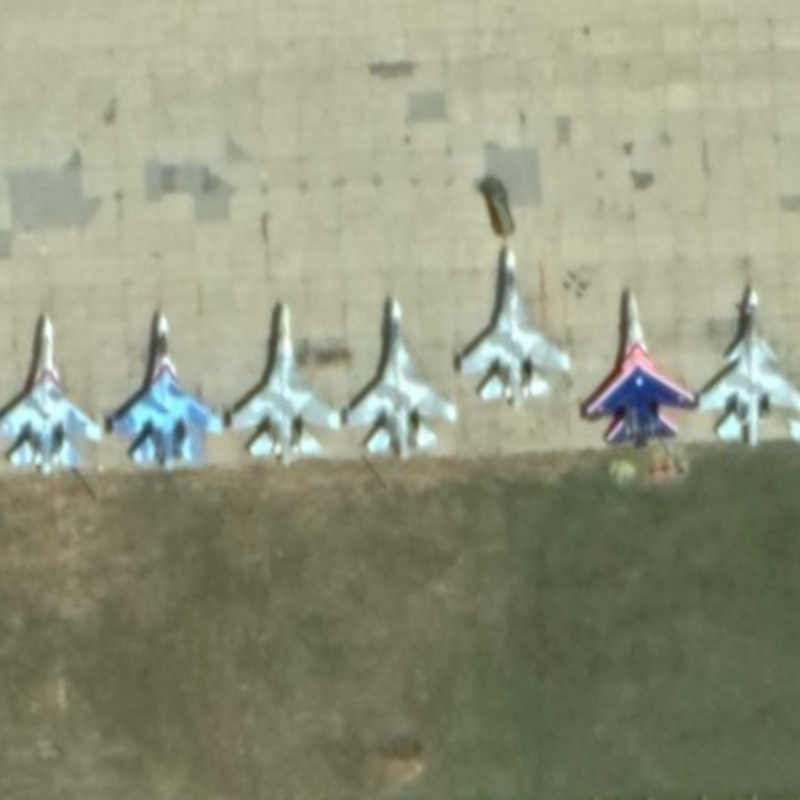A1: (226, 299, 344, 469), (344, 293, 460, 464), (581, 286, 702, 449), (108, 309, 227, 473), (457, 243, 573, 409), (1, 309, 107, 478)
A19: (697, 284, 799, 450)
